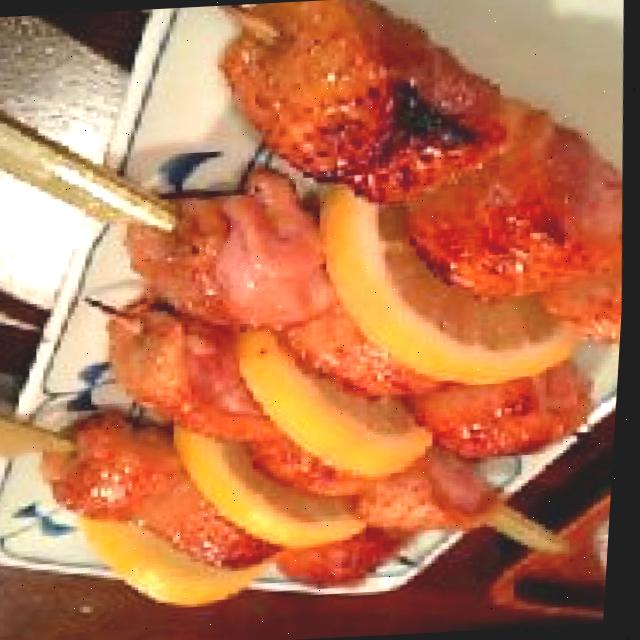烧串烤肉: (0, 0, 640, 617)
